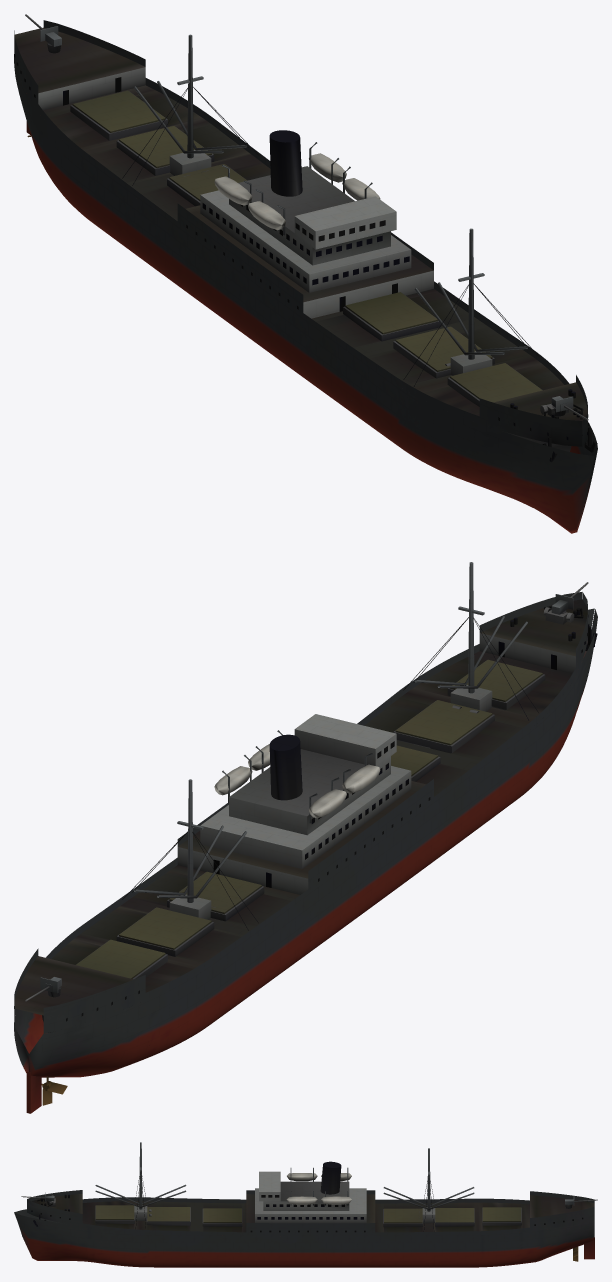
Rendered from model_built.glb.
3 views of the same model, one above another, from view 1: azimuth 30°, elevation 25°; view 2: azimuth 150°, elevation 25°; view 3: azimuth 270°, elevation 25° (orthographic). The views are drawn at different scales.
Parts seen in each view (by area): view 1: main; view 2: main; view 3: main.
Part boxes in pixels (left/top/right/bottom): main: left=14, top=14, right=597, bottom=533; main: left=14, top=562, right=597, bottom=1113; main: left=14, top=1142, right=597, bottom=1267.
Size of the model in its own units: 18.12 by 30.42 by 136.
Materials: 1 (1 with a texture image).
